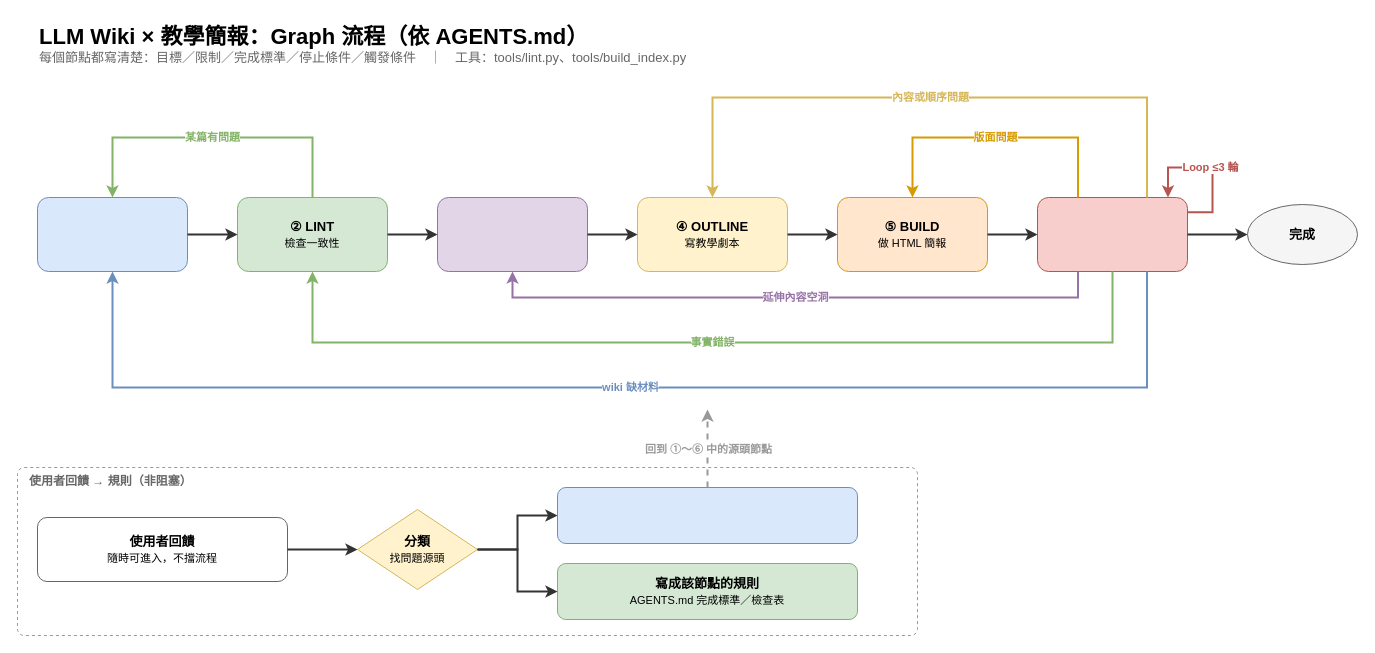
Some shapes in this 1375 by 653 pixel diagram are drawn without their labels. Here are the shapes that lost their labels. From the top down, the centre of each, then its label:
the point at 112,234: ① INGEST 讀論文 → wiki 頁
the point at 512,234: ③ SYNTHESIZE 整合延伸發想
the point at 1112,234: ⑥ REVIEW 檢查表＋模擬讀者
the point at 707,515: 退回負責的節點重跑
